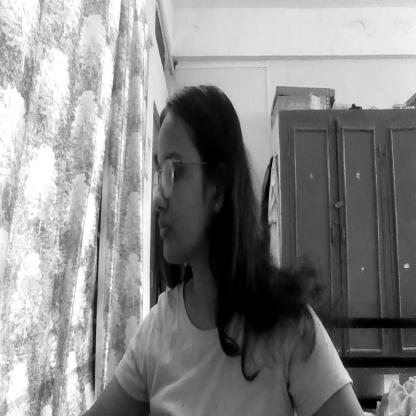Distracted: (154, 92, 245, 268)
